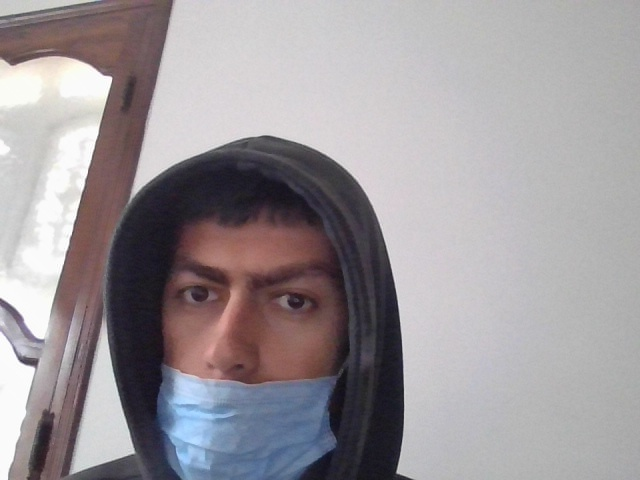mask_weared_incorrect: (140, 192, 347, 479)
